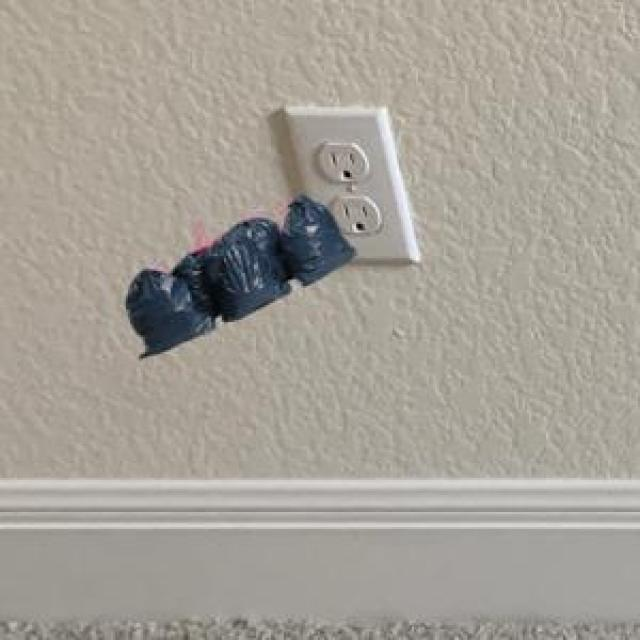waste: (126, 196, 354, 356)
